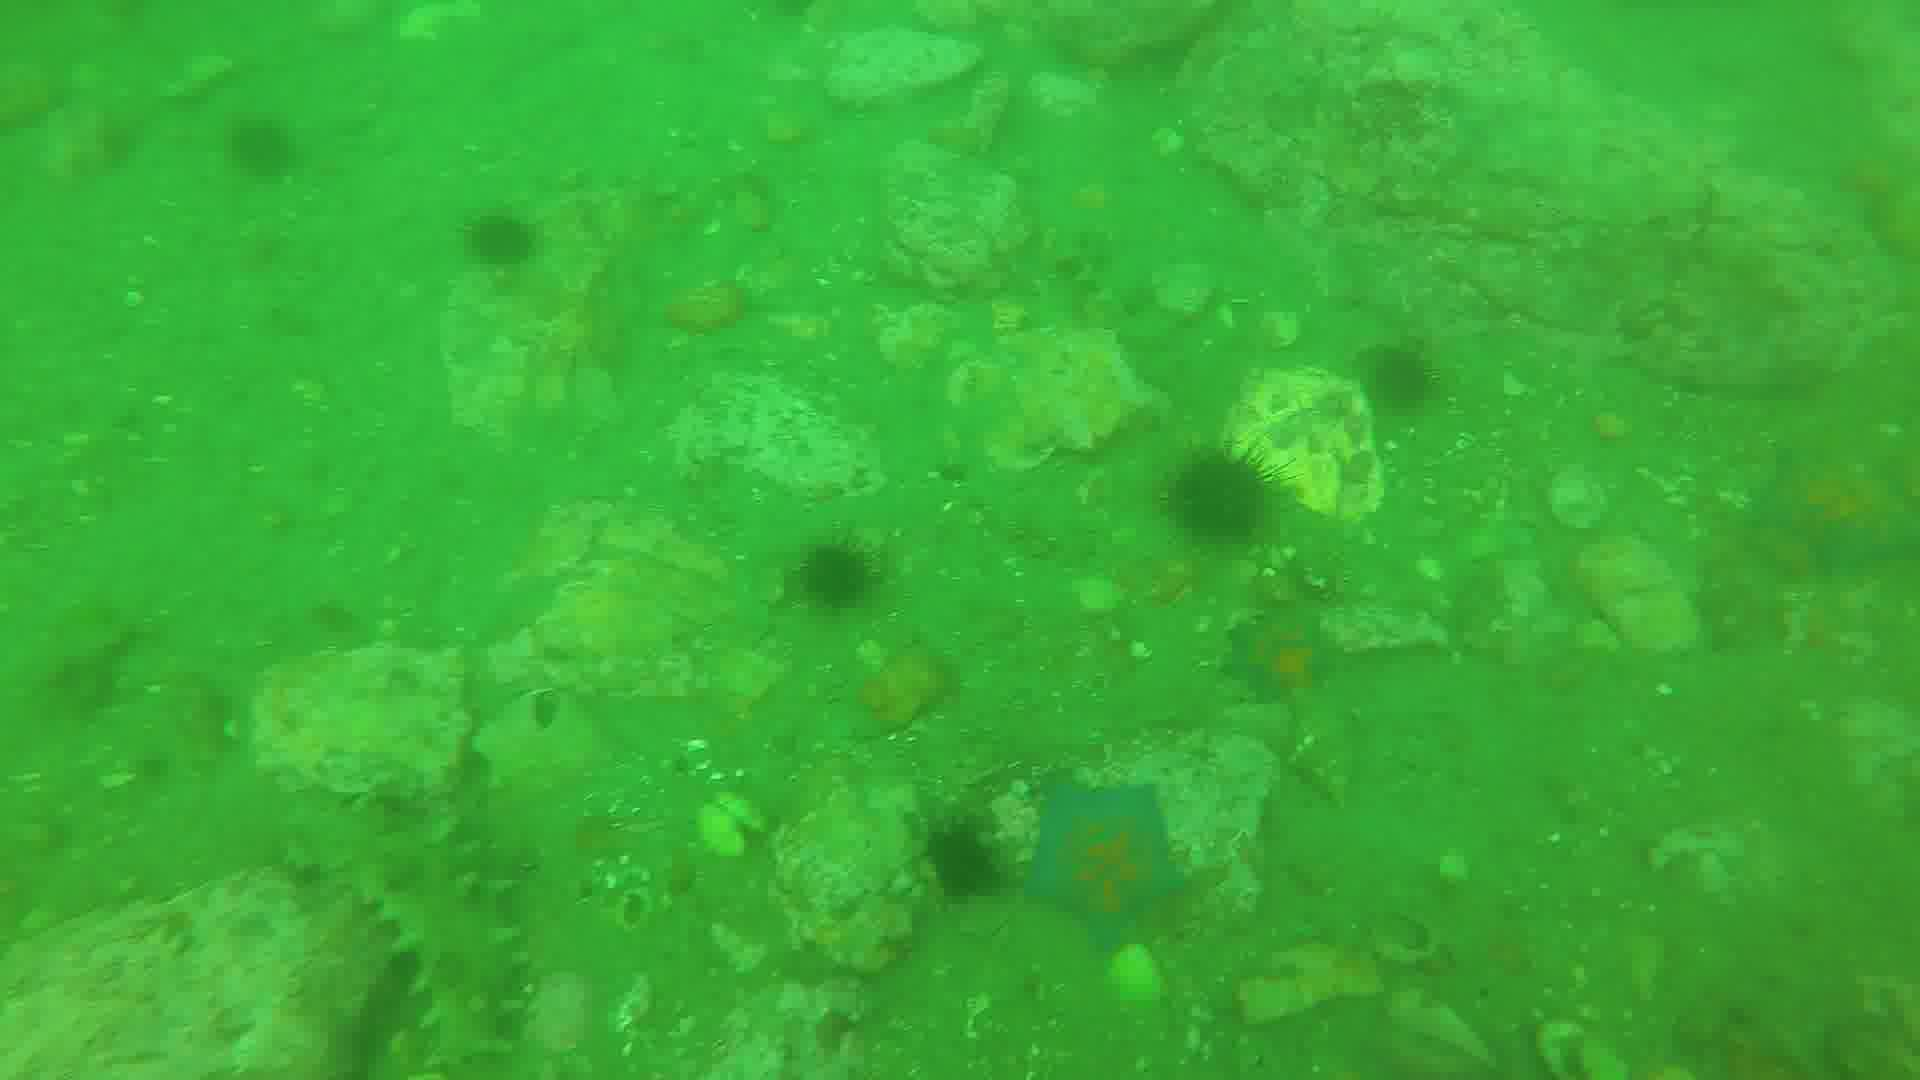echinus: (1178, 447, 1266, 543), (927, 819, 1000, 890), (800, 541, 872, 609), (229, 119, 302, 185), (475, 207, 549, 272), (1369, 348, 1435, 411)
holothurian: (284, 798, 529, 1067), (1030, 767, 1185, 940), (1768, 446, 1920, 580), (1233, 621, 1333, 694)
scallop: (687, 785, 769, 862)
